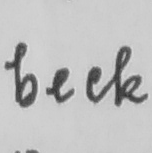b: (9, 38, 39, 109)
c: (83, 64, 105, 103)
e: (47, 65, 78, 104)
k: (111, 44, 150, 108)
